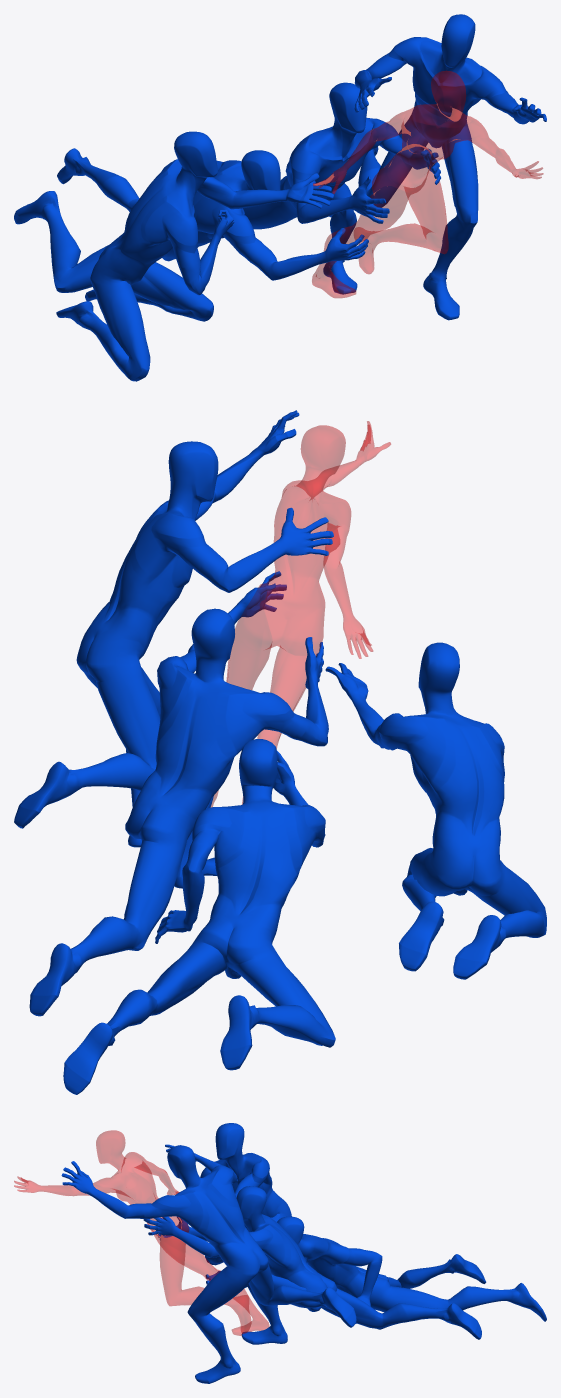
The model's file is pose_final_cuadro.glb.
3 renders of one model, top to bottom at view 1: azimuth 30°, elevation 25°; view 2: azimuth 150°, elevation 25°; view 3: azimuth 270°, elevation 25°, orthographic. The views are drawn at different scales.
Parts seen in each view (by area): view 1: male_pose, pose_victima; view 2: male_pose, pose_victima; view 3: male_pose, pose_victima.
Part boxes in pixels (bbox=[...]): male_pose: bbox=[14, 14, 546, 381]; pose_victima: bbox=[312, 71, 543, 297]; male_pose: bbox=[14, 410, 546, 1094]; pose_victima: bbox=[211, 421, 390, 807]; male_pose: bbox=[61, 1123, 546, 1383]; pose_victima: bbox=[14, 1130, 269, 1335].
Bounding box in the file's own units: 9.64 × 7.99 × 16.33.
